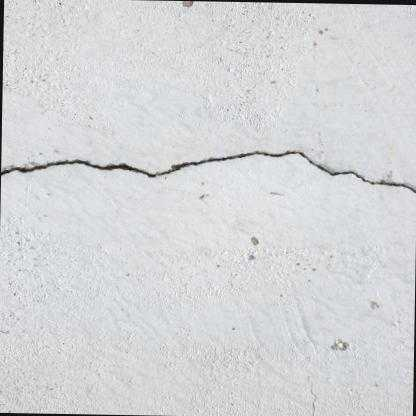crack: (1, 150, 416, 192)
